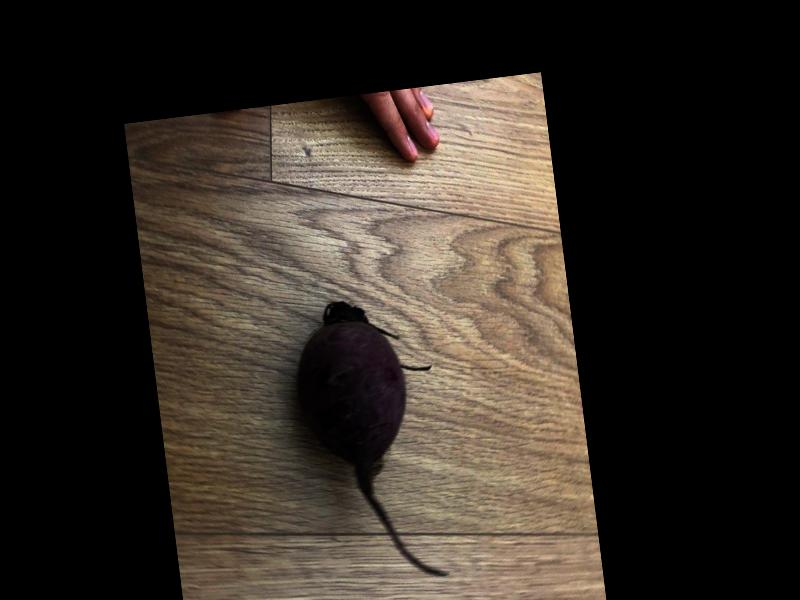Beet: (290, 292, 456, 592)
